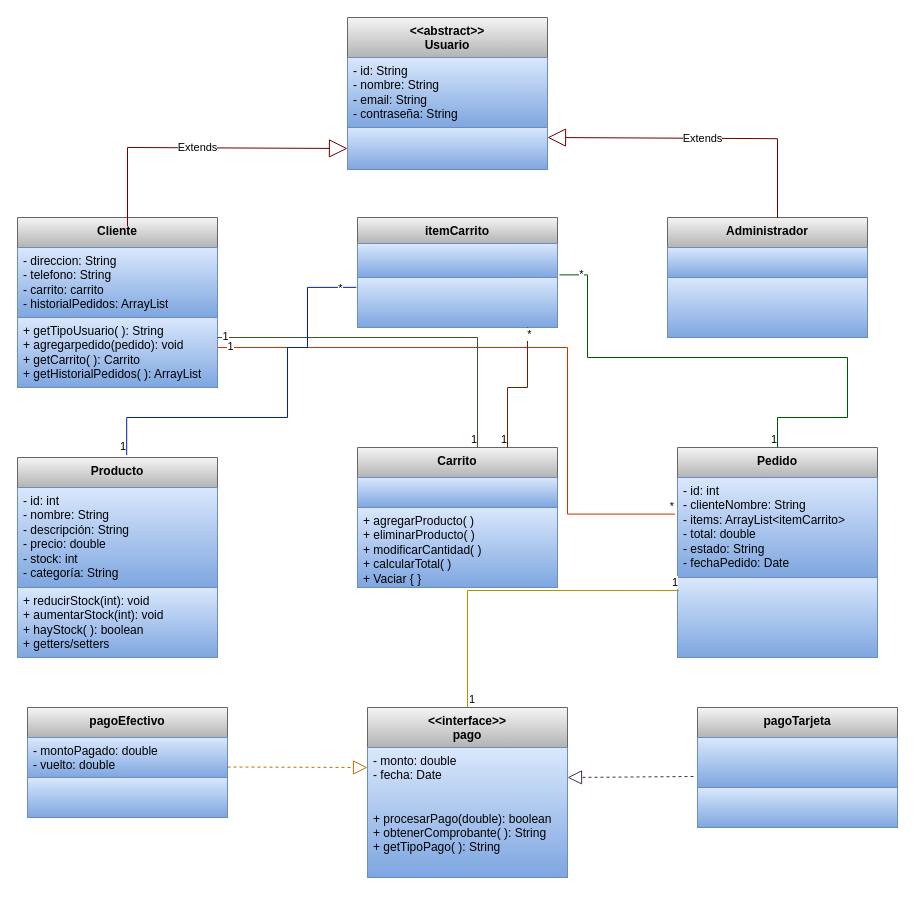
The diagram is 915 pixels wide and 898 high, and some of its shapes have lost their labels. Here are the shapes that lost their labels. From the top down, the centre of each, then its label:
the point at 447,148: + getTipoUsuario( ): String + verificarContraseña: boolean
the point at 457,260: - producto: producto - cantidad: int
the point at 767,262: - nivelAcceso : String
the point at 457,302: + getSubtotal( ) + getCantidad( ) + setCantidad( )
the point at 767,307: + getTipoUsuario(): String + getNivelAcceso(): String + setNivelAcceso(): void
the point at 457,492: - items: ArrayList<itemCarrito>
the point at 777,617: + confirmarPago: boolean + cancelar( ): void + getFechaformateada( )
the point at 797,762: -numeroTarjeta: String - titular: String - tipoTarjeta: String
the point at 127,797: + procesarPago(double) + obtenerComprobante( )
the point at 797,807: + procesarPago(double) + obtenerComprobante
